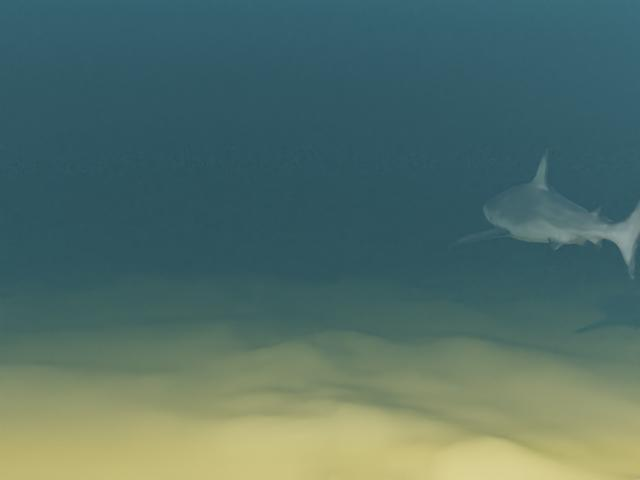Carribean Shark.001: (446, 150, 640, 279)
